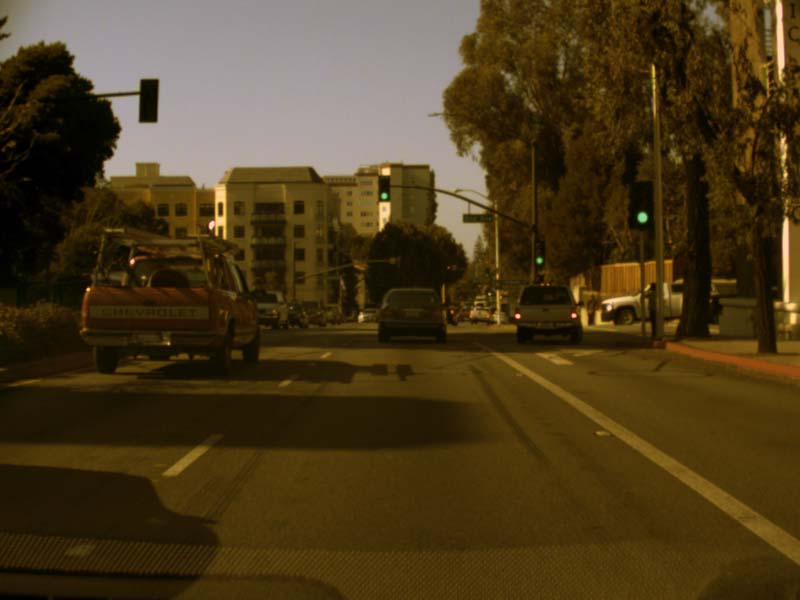Green: (631, 180, 652, 229), (535, 235, 543, 267), (377, 175, 387, 200), (485, 267, 488, 277)
Red: (446, 264, 451, 270)
